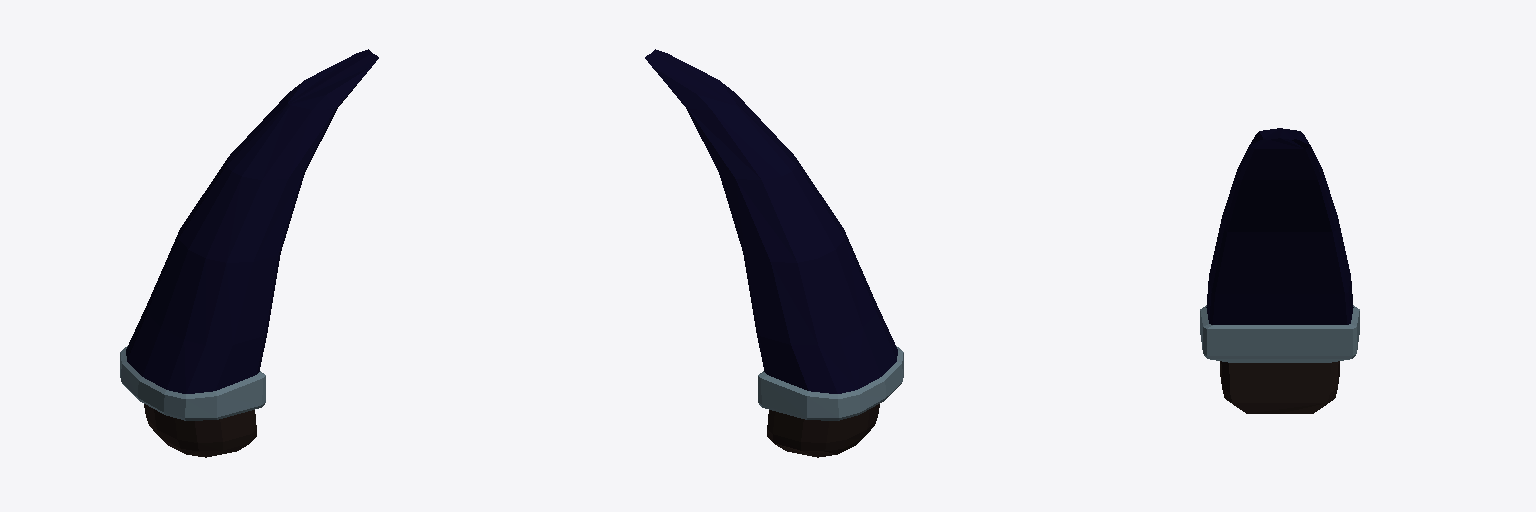
The model's file is character_mageArmRight.obj.
3 renders of one model, left to right at view 1: azimuth 30°, elevation 25°; view 2: azimuth 150°, elevation 25°; view 3: azimuth 270°, elevation 25°, orthographic.
Parts seen in each view (by area): view 1: character_mageArmRight_Cube.011; view 2: character_mageArmRight_Cube.011; view 3: character_mageArmRight_Cube.011.
Part boxes in pixels (x1,y1,x2,y2): character_mageArmRight_Cube.011: (120, 49, 378, 457); character_mageArmRight_Cube.011: (645, 49, 903, 457); character_mageArmRight_Cube.011: (1200, 128, 1359, 413).
Bounding box in the file's own units: 0.4036 × 0.5708 × 0.2371.